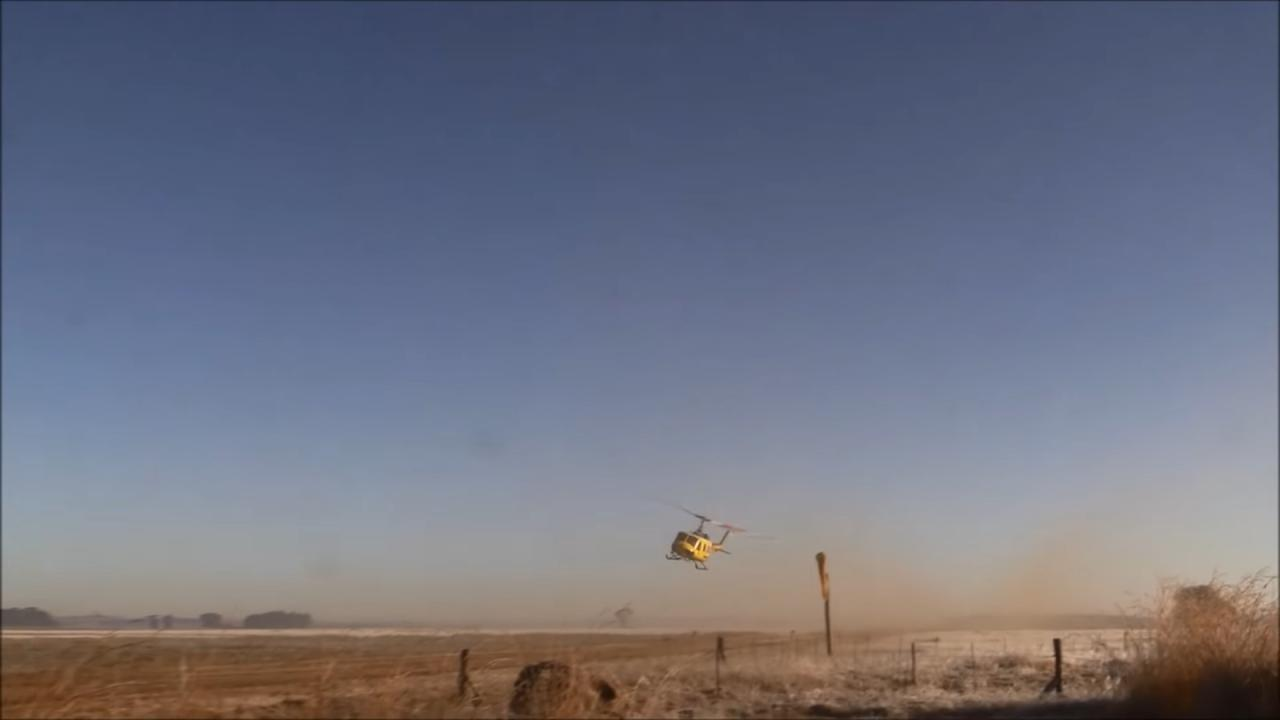Helicopter: (654, 496, 763, 583)
